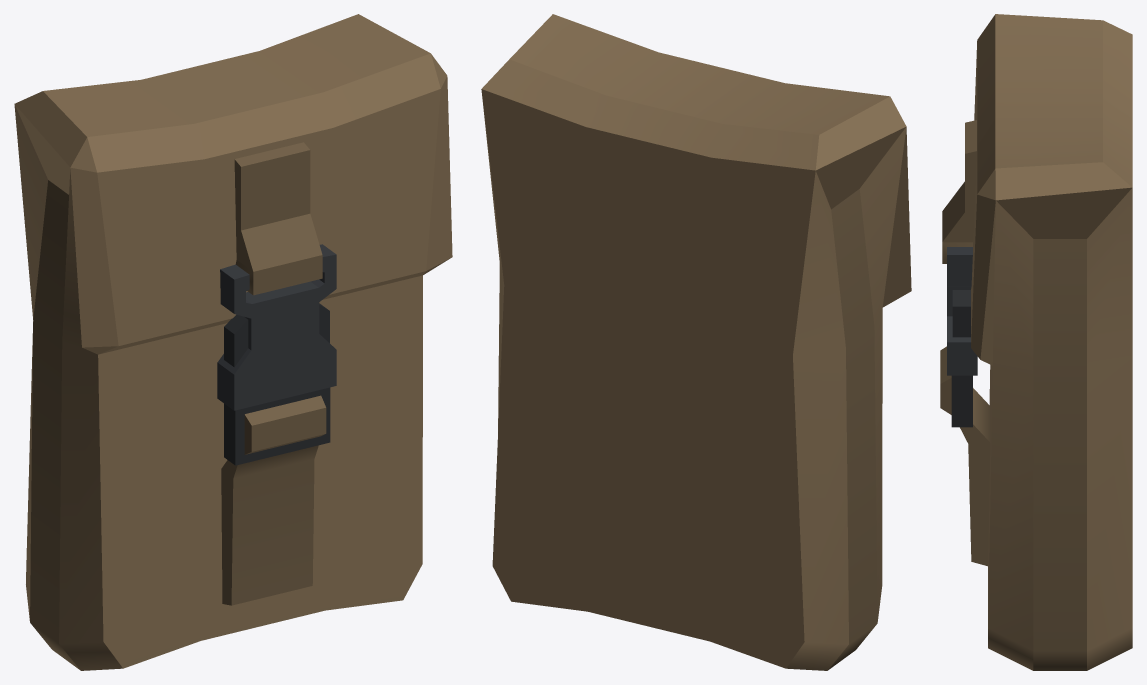
File: SM_Chr_Attach_Pouch_03.fbx
3 views of the same model, side by side, from view 1: azimuth 30°, elevation 25°; view 2: azimuth 150°, elevation 25°; view 3: azimuth 270°, elevation 25° (orthographic). The views are drawn at different scales.
Visible parts, largest first — view 1: SM_Chr_Attach_Pouch_03; view 2: SM_Chr_Attach_Pouch_03; view 3: SM_Chr_Attach_Pouch_03.
Part boxes in pixels (bbox=[...]): SM_Chr_Attach_Pouch_03: bbox=[14, 14, 452, 670]; SM_Chr_Attach_Pouch_03: bbox=[481, 14, 911, 670]; SM_Chr_Attach_Pouch_03: bbox=[940, 14, 1132, 670].
Bounding box in the file's own units: 13.77 × 19.28 × 6.6.
